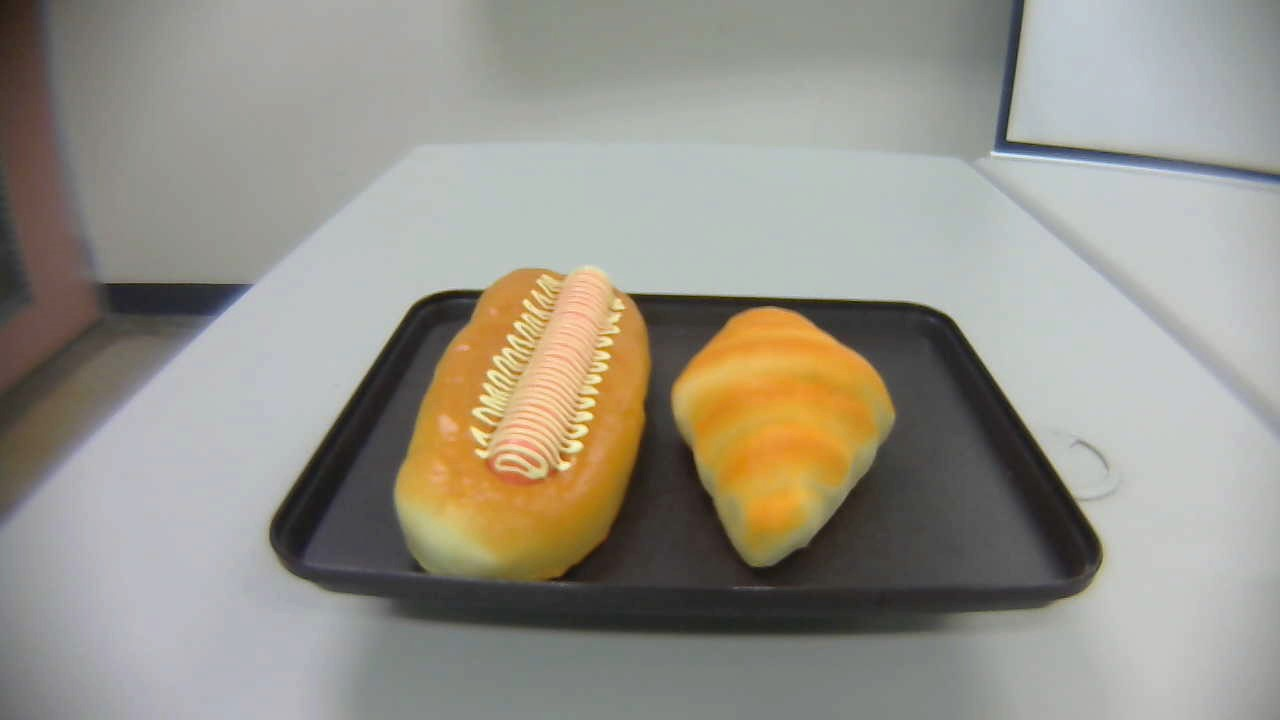croissant: (671, 305, 898, 569)
hot dog: (393, 267, 650, 583)
